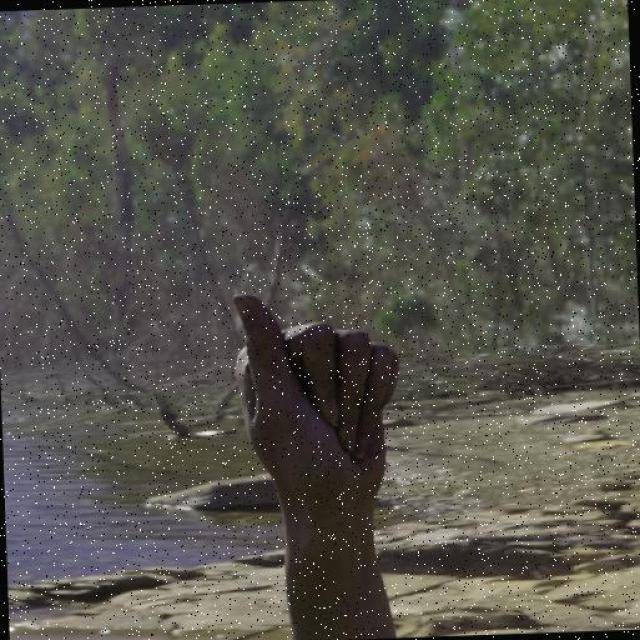A: (234, 285, 407, 487)
